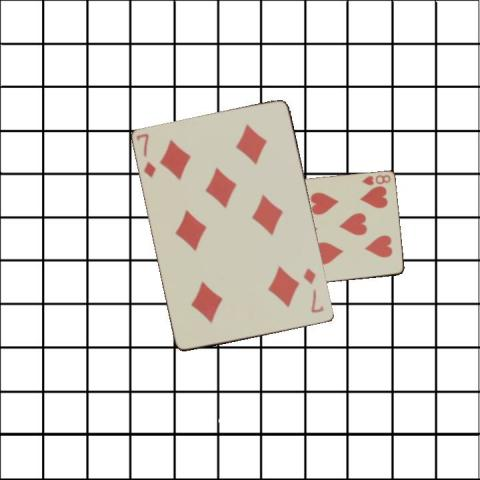7d: (133, 131, 158, 180), (301, 264, 325, 314)
8h: (359, 172, 391, 187)
